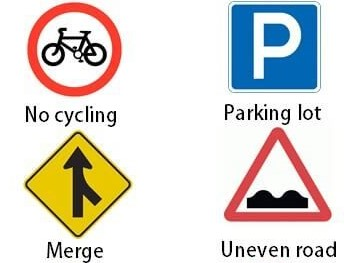Traffic signal: (24, 132, 131, 238), (224, 127, 333, 221), (25, 1, 123, 97), (225, 1, 322, 96)
